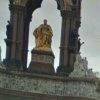Statue: (29, 15, 71, 81)
